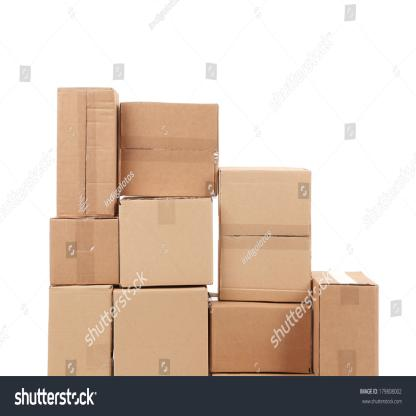box: (218, 171, 312, 303), (119, 101, 218, 197), (113, 286, 208, 374), (120, 198, 214, 286), (57, 87, 116, 217), (211, 302, 313, 372), (47, 288, 113, 376), (319, 285, 379, 377), (50, 216, 120, 286)
